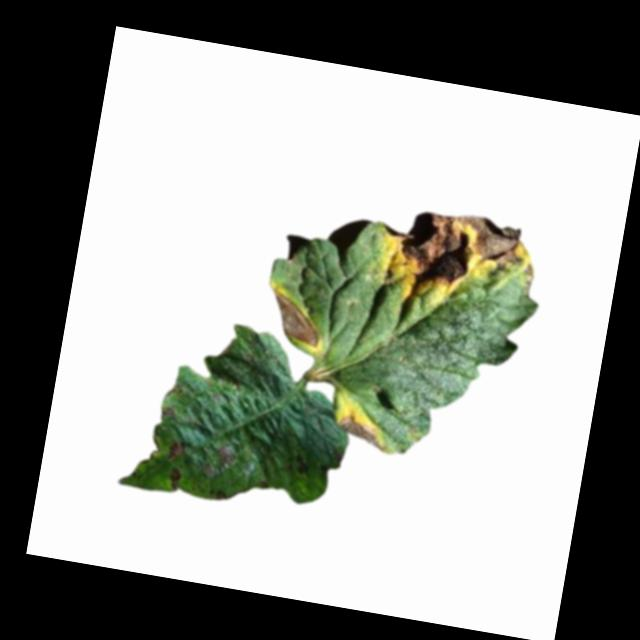Early_blight: (370, 198, 532, 319), (261, 287, 333, 351), (329, 409, 395, 454), (210, 442, 239, 469), (163, 442, 189, 469), (165, 467, 182, 493), (158, 405, 180, 421)
